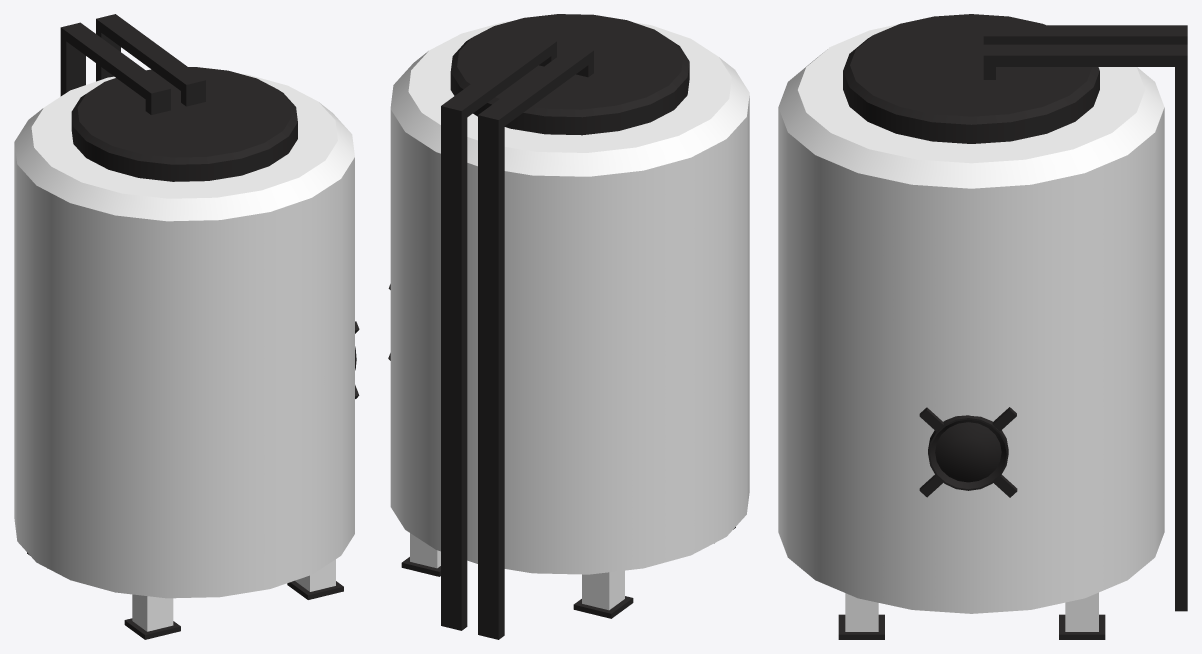
The model's file is Tank.fbx.
3 views of the same model, side by side, from view 1: azimuth 30°, elevation 25°; view 2: azimuth 150°, elevation 25°; view 3: azimuth 270°, elevation 25° (orthographic). The views are drawn at different scales.
Parts seen in each view (by area): view 1: Tank; view 2: Tank; view 3: Tank.
Boxes of the visible parts, box(x1,y1,x2,y2) form: Tank: box(14, 14, 359, 639); Tank: box(388, 14, 749, 639); Tank: box(778, 14, 1187, 639).
Size of the model in its own units: 537 by 835 by 558.
